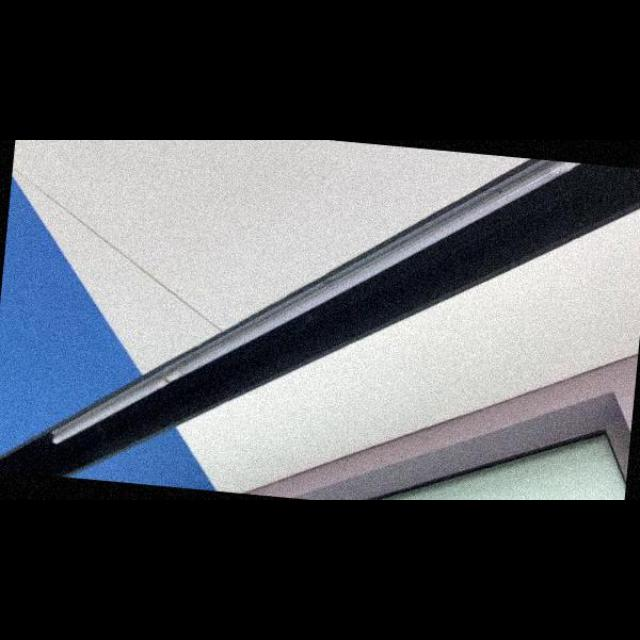Straight-Tube-Fluorescent-Lamp: (25, 140, 585, 496)
